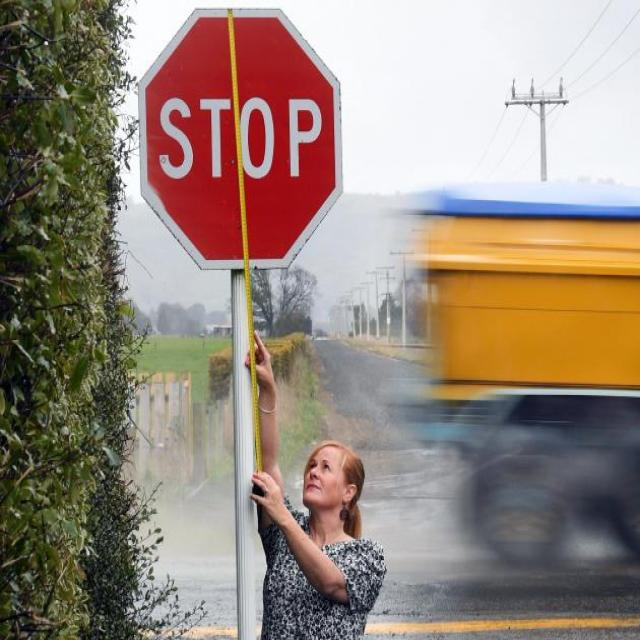stop-sign: (102, 1, 358, 255)
